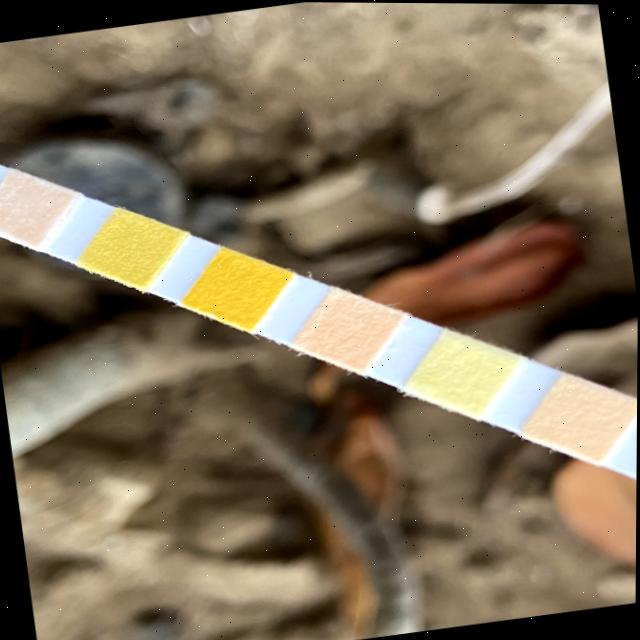Blood: (199, 264, 277, 313)
Ketone: (0, 185, 61, 230)
Protein: (427, 345, 505, 399)
SpGravity: (96, 222, 168, 271)
Urobilinogen: (544, 389, 626, 443)
pH: (310, 302, 387, 356)
